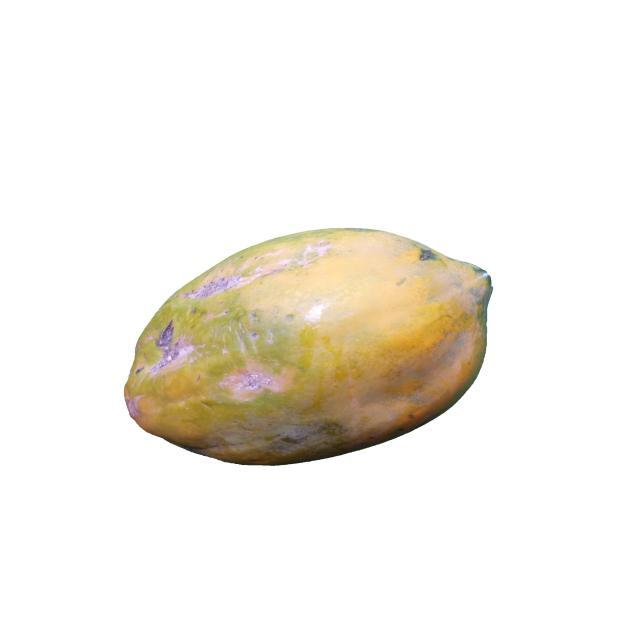Pepaya rippen: (124, 226, 491, 471)
